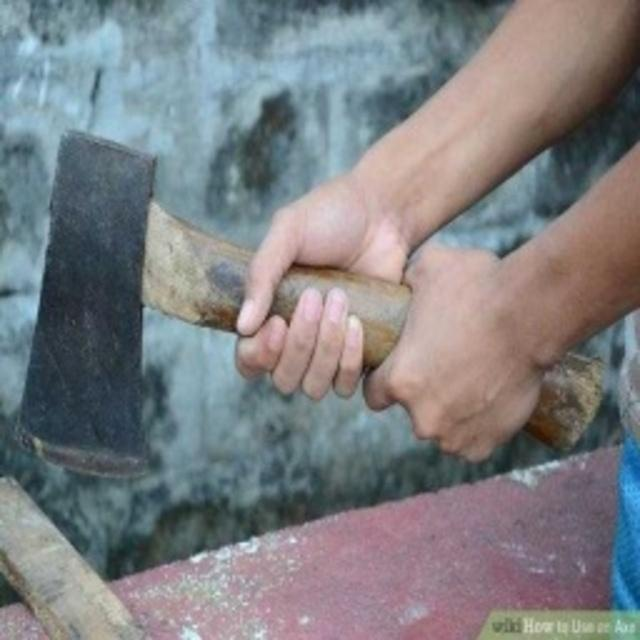ax: (13, 126, 610, 500)
